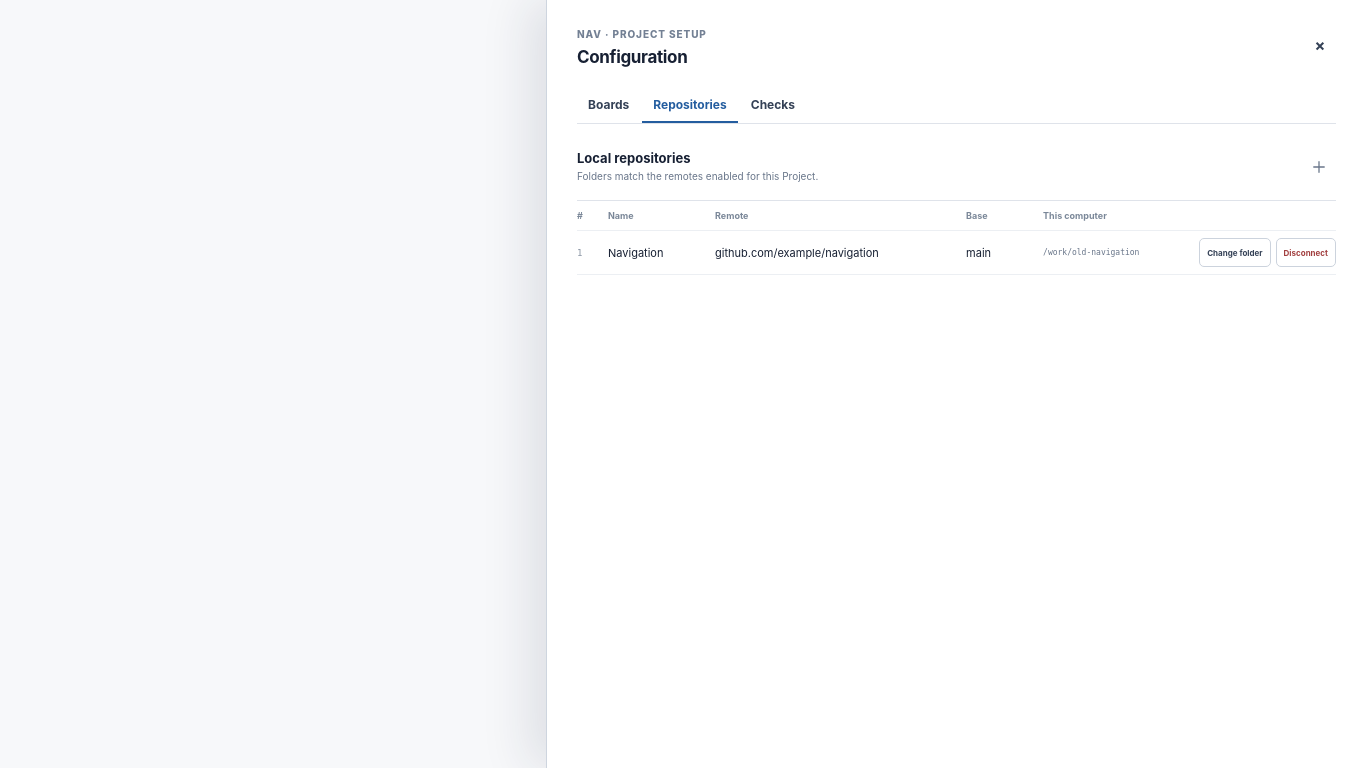
Test: Repository setup scopes › browses a replacement folder without reconnecting until explicitly confirmed
Click the button "Change folder" at (1235, 253), box [1199,238,1271,267]
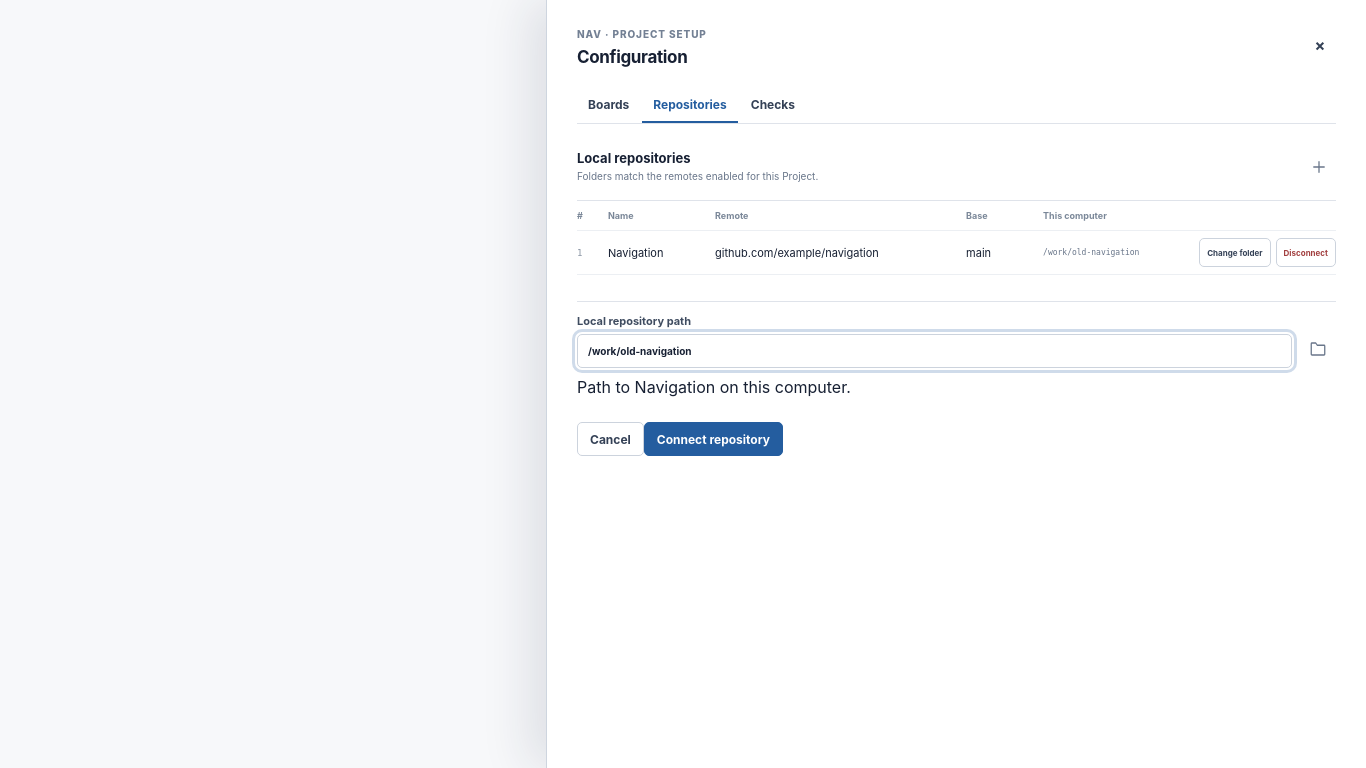
Check: the field labelled "Local repository path" holds "/work/old-navigation", box [577,334,1292,368]
Click the button named "Browse folders" at (1318, 349), box [1300,332,1336,366]
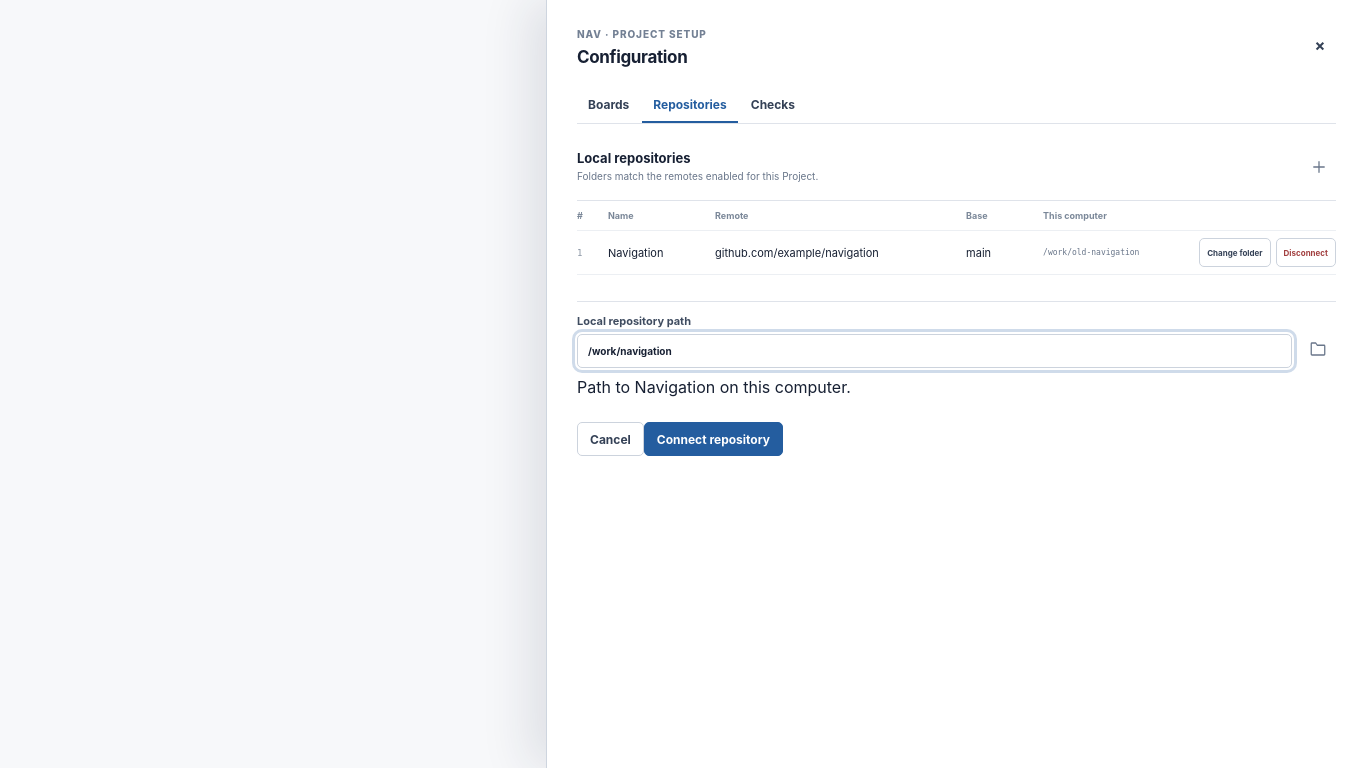
Check: the field labelled "Local repository path" holds "/work/navigation", box [577,334,1292,368]
Click the button "Connect repository" at (713, 439), box [644,422,783,456]
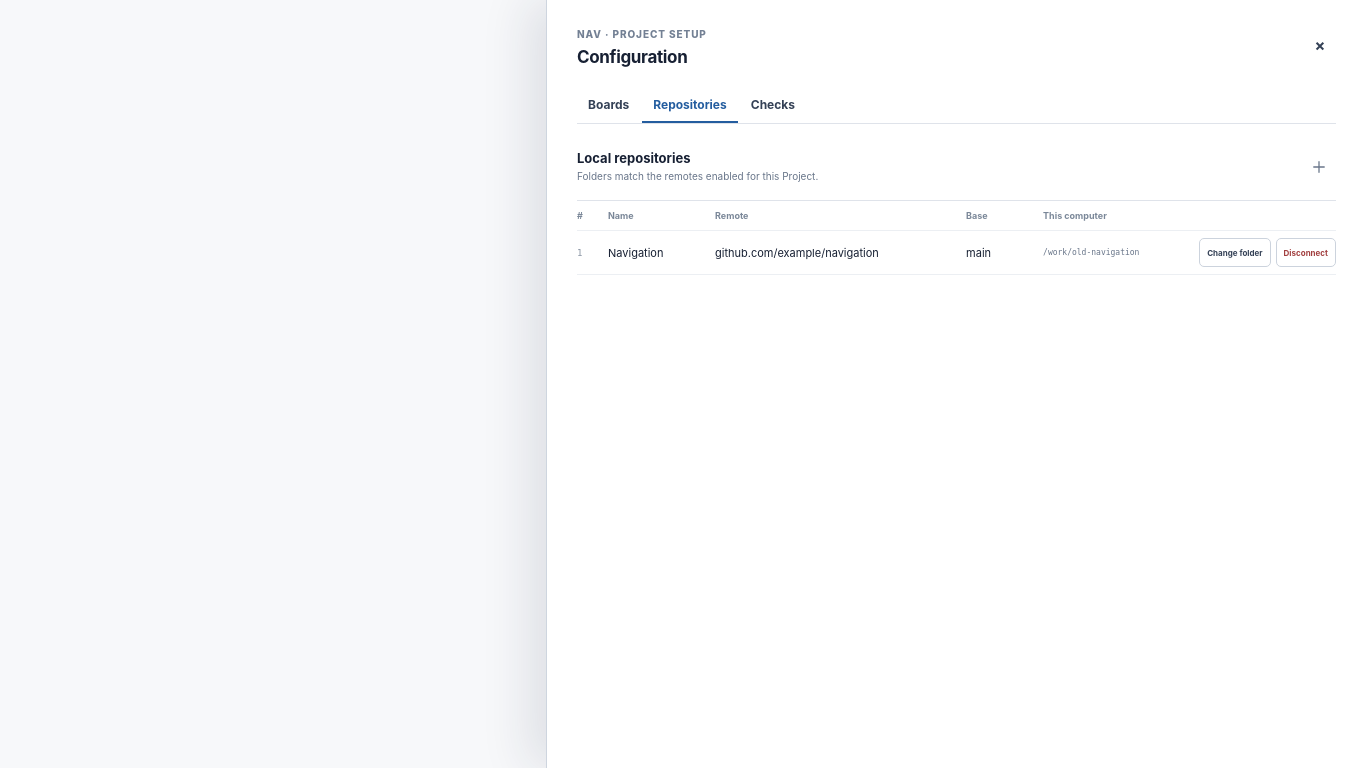
Check: the label labelled "Local repository path" is gone
